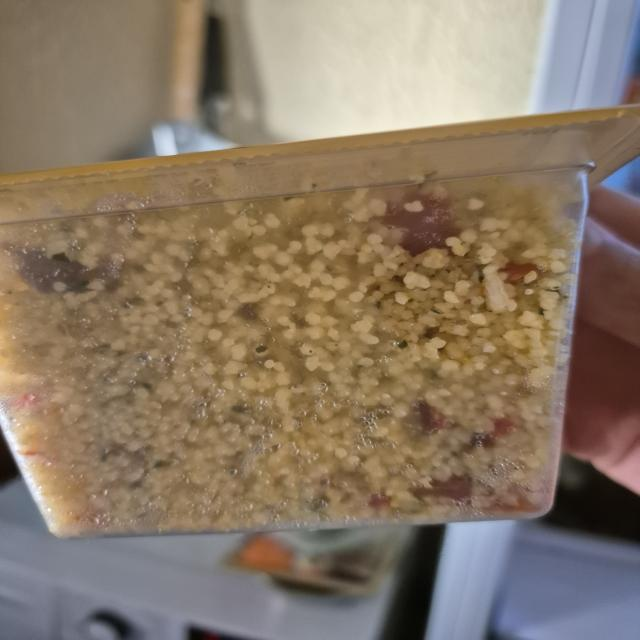couscous: (27, 193, 556, 494)
